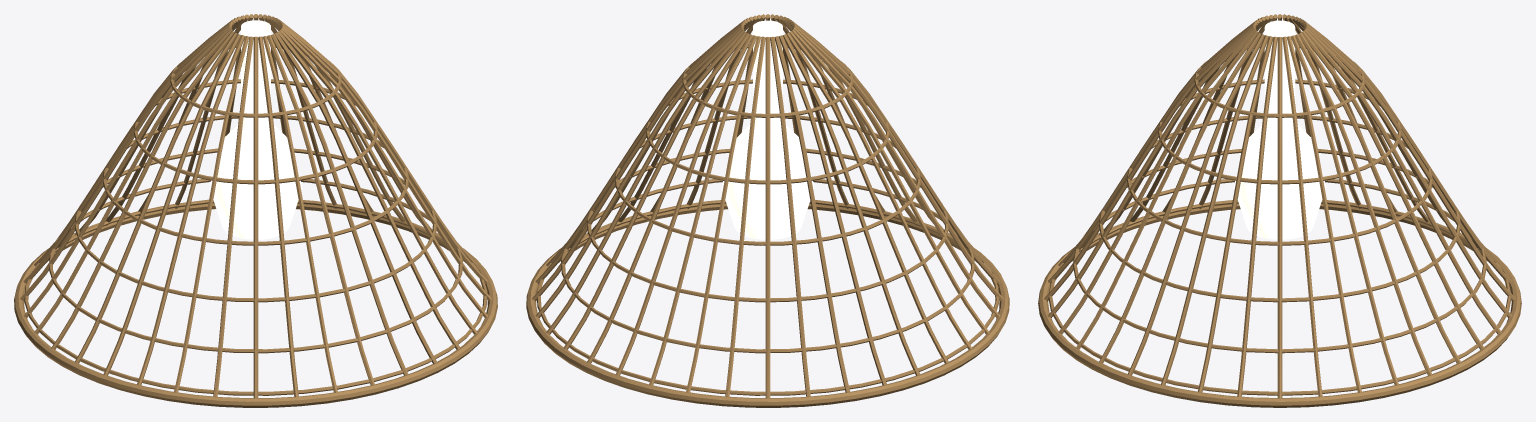
Rendered from rattan.glb.
3 renders of one model, left to right at view 1: azimuth 30°, elevation 25°; view 2: azimuth 150°, elevation 25°; view 3: azimuth 270°, elevation 25°, orthographic.
Parts seen in each view (by area): view 1: rattan; view 2: rattan; view 3: rattan.
Part boxes in pixels (<box>): rattan: <box>14,14,497,407</box>; rattan: <box>526,14,1009,407</box>; rattan: <box>1038,14,1521,407</box>.
Bounding box in the file's own units: 0.5719 × 0.368 × 0.5719.
